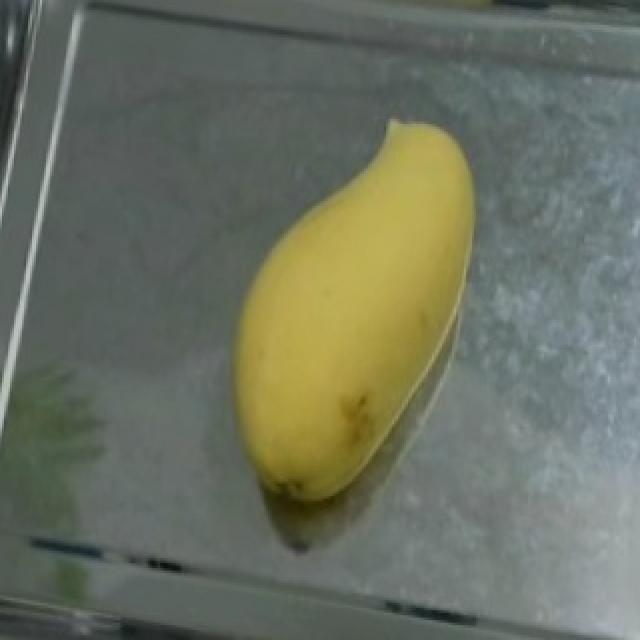fruit: (210, 100, 496, 472)
